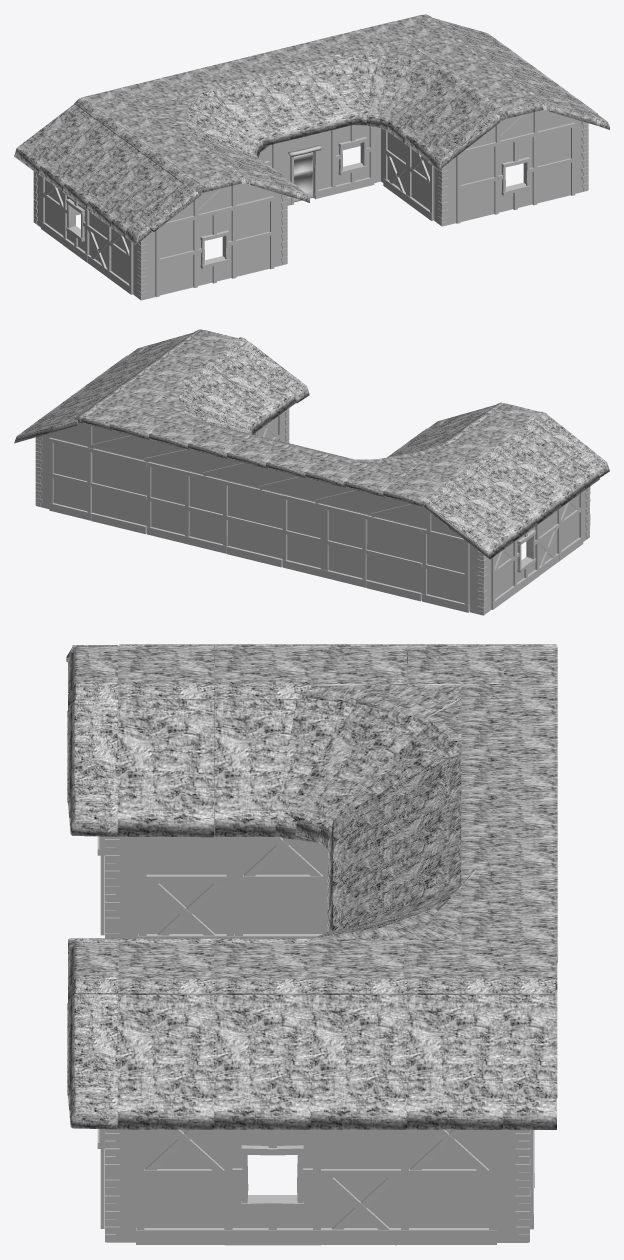
File: house_7.fbx
3 renders of one model, top to bottom at view 1: azimuth 30°, elevation 25°; view 2: azimuth 150°, elevation 25°; view 3: azimuth 270°, elevation 25°, orthographic. The views are drawn at different scales.
Visible parts, largest first — view 1: techo_paja_punta_6x4.011, puerta_1.011; view 2: puerta_1.011, techo_paja_punta_6x4.011; view 3: techo_paja_punta_6x4.011, puerta_1.011.
Boxes of the visible parts, x1,y1,x2,y2 form: techo_paja_punta_6x4.011: (14, 14, 609, 244); puerta_1.011: (33, 110, 588, 300); puerta_1.011: (35, 408, 590, 615); techo_paja_punta_6x4.011: (14, 329, 609, 559); techo_paja_punta_6x4.011: (66, 644, 557, 1129); puerta_1.011: (97, 664, 534, 1245).
Size of the model in its own units: 3423 by 743 by 1530.
